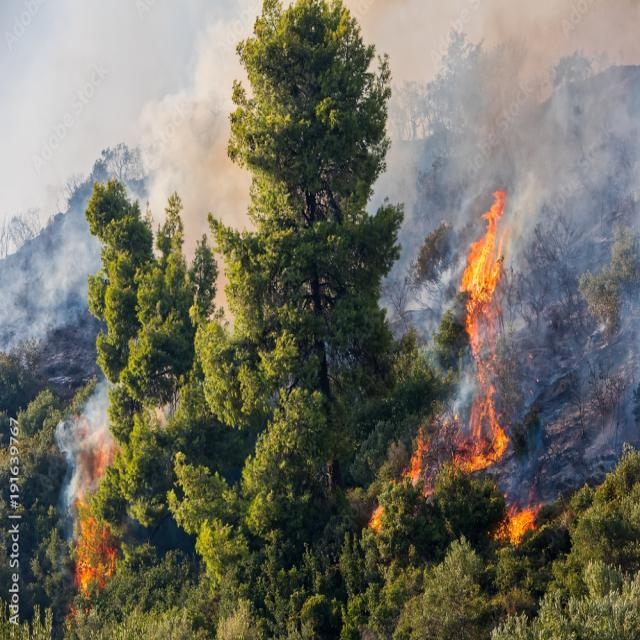Fire: (367, 187, 546, 551), (62, 408, 120, 612)
